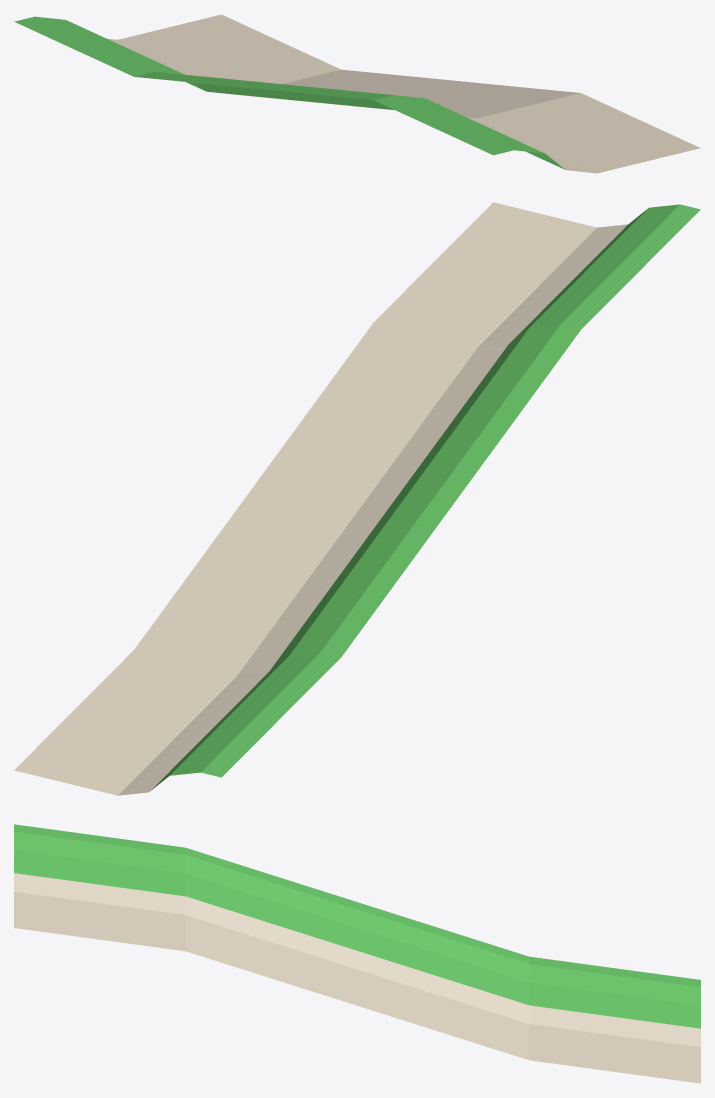
File: Hilly_Terrain_Path_Hill_Gentle_Plain_Side.glb
3 views of the same model, one above another, from view 1: azimuth 30°, elevation 25°; view 2: azimuth 150°, elevation 25°; view 3: azimuth 270°, elevation 25° (orthographic). The views are drawn at different scales.
Parts seen in each view (by area): view 1: Hilly_Terrain_Path_Hill_Gentle_Plain_Side; view 2: Hilly_Terrain_Path_Hill_Gentle_Plain_Side; view 3: Hilly_Terrain_Path_Hill_Gentle_Plain_Side.
Part boxes in pixels (x1=…): Hilly_Terrain_Path_Hill_Gentle_Plain_Side: x1=14, y1=14, x2=700, y2=173; Hilly_Terrain_Path_Hill_Gentle_Plain_Side: x1=14, y1=202, x2=700, y2=795; Hilly_Terrain_Path_Hill_Gentle_Plain_Side: x1=14, y1=824, x2=700, y2=1083.
Size of the model in its own units: 0.53 by 0.636 by 2.12.
